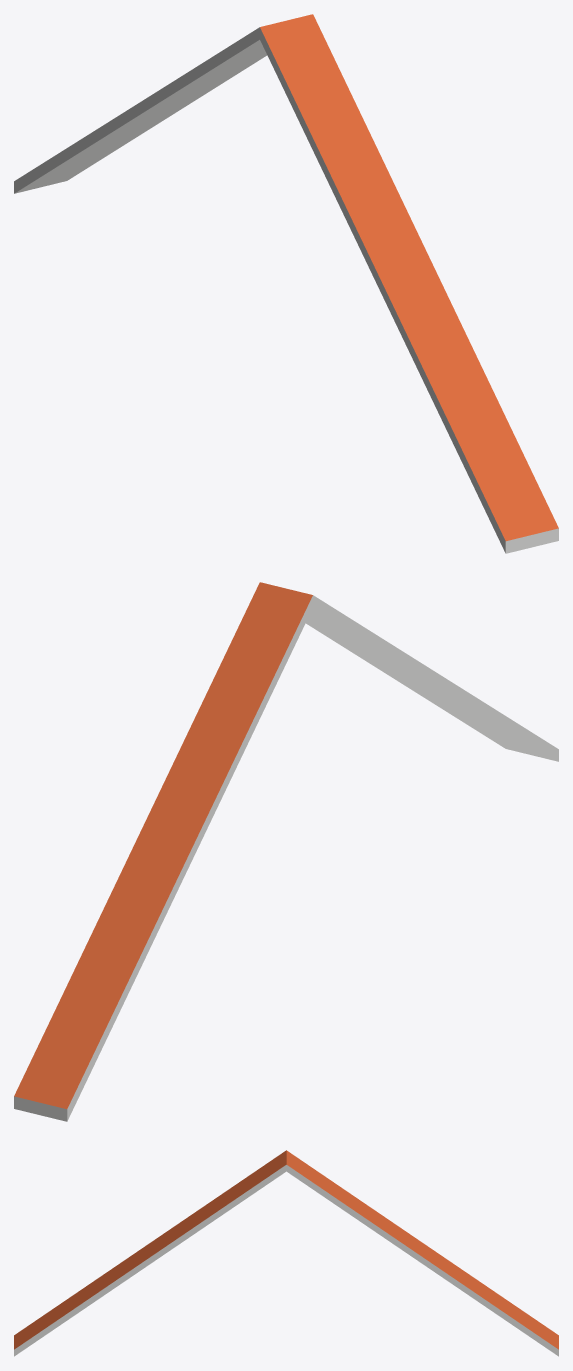
The model's file is telhado_duas_aguas_v8_i75_0_5m.glb.
3 views of the same model, one above another, from view 1: azimuth 30°, elevation 25°; view 2: azimuth 150°, elevation 25°; view 3: azimuth 270°, elevation 25° (orthographic). The views are drawn at different scales.
Parts seen in each view (by area): view 1: telhado_duas_aguas_v8_i75_0_5m; view 2: telhado_duas_aguas_v8_i75_0_5m; view 3: telhado_duas_aguas_v8_i75_0_5m.
Part boxes in pixels (x1,y1,x2,y2): telhado_duas_aguas_v8_i75_0_5m: (14,14,558,553); telhado_duas_aguas_v8_i75_0_5m: (14,582,558,1121); telhado_duas_aguas_v8_i75_0_5m: (14,1150,558,1356).
Size of the model in its own units: 0.5 by 3.11 by 8.
